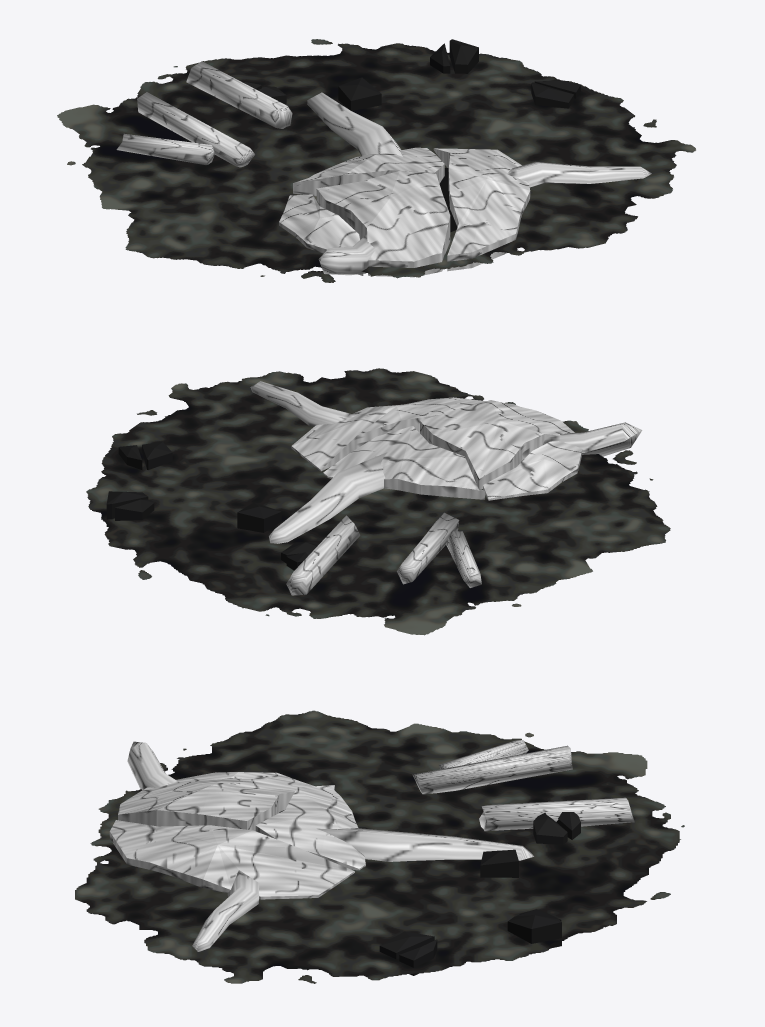
Rendered from CreTreesmudge07.glb.
3 views of the same model, one above another, from view 1: azimuth 30°, elevation 25°; view 2: azimuth 150°, elevation 25°; view 3: azimuth 270°, elevation 25° (orthographic). The views are drawn at different scales.
Parts seen in each view (by area): view 1: CreTreesmudge07_bed; view 2: CreTreesmudge07_bed; view 3: CreTreesmudge07_bed.
Boxes of the visible parts, x1,y1,x2,y2 form: CreTreesmudge07_bed: (57,39,695,282); CreTreesmudge07_bed: (86,368,670,635); CreTreesmudge07_bed: (75,710,684,983).
Size of the model in its own units: 3.66 by 0.2487 by 3.42.
3 materials, 2 textured.
